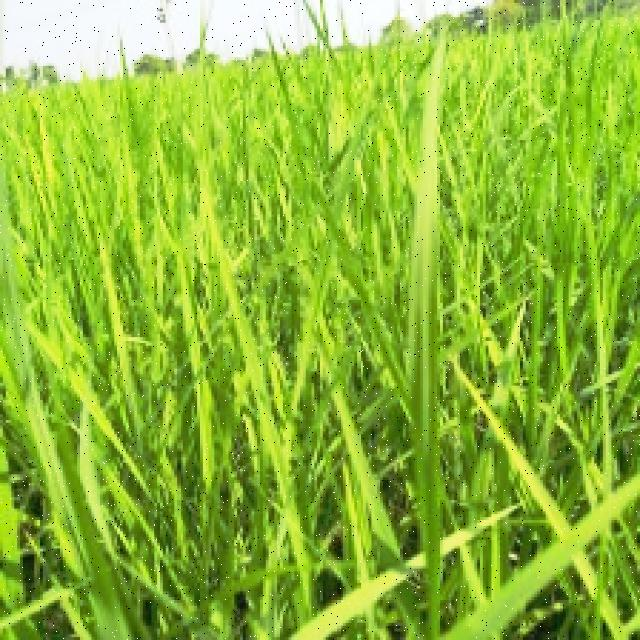health: (10, 112, 413, 376)
